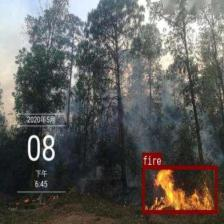fire: (142, 165, 217, 213)
